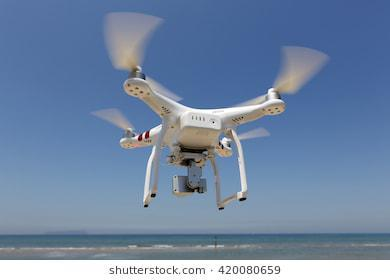drone: (88, 5, 335, 217)
